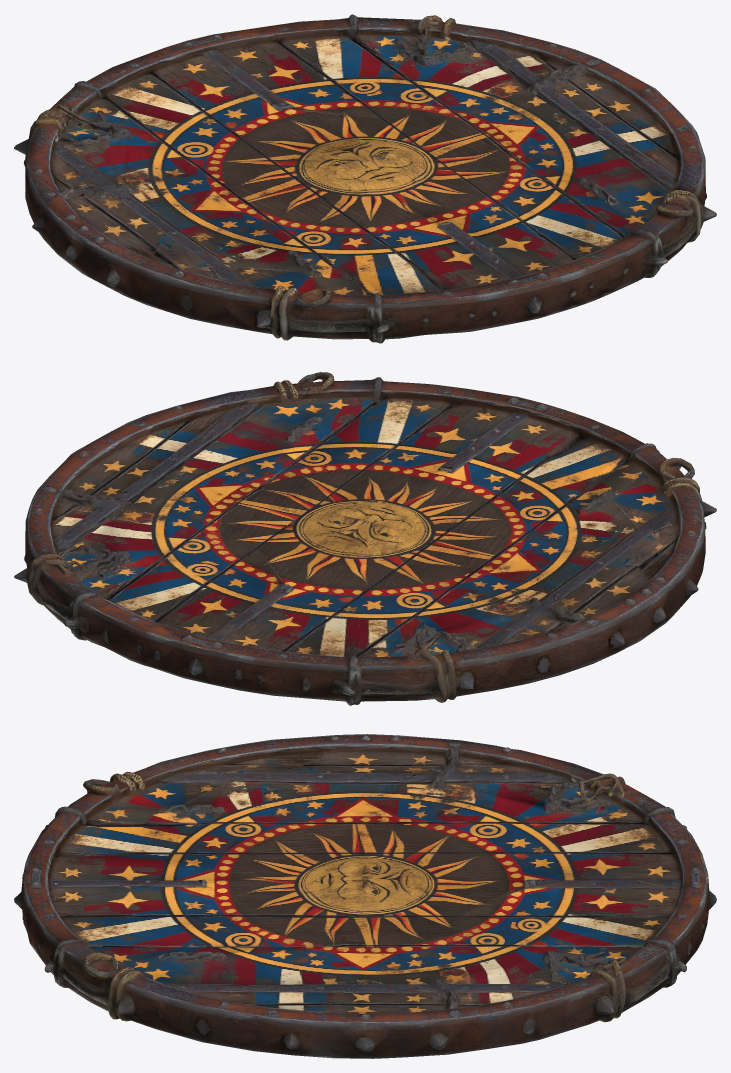
Rendered from Meshy_AI_Sunburst_Round_Shield_0504151040_texture.fbx.
3 renders of one model, top to bottom at view 1: azimuth 30°, elevation 25°; view 2: azimuth 150°, elevation 25°; view 3: azimuth 270°, elevation 25°, orthographic.
Visible parts, largest first — view 1: Mesh_0; view 2: Mesh_0; view 3: Mesh_0.
Boxes of the visible parts, x1,y1,x2,y2 form: Mesh_0: (14,14,716,343); Mesh_0: (14,372,716,705); Mesh_0: (14,734,716,1058).
Size of the model in its own units: 191 by 16.36 by 191.
Materials: 1 (1 with a texture image).
